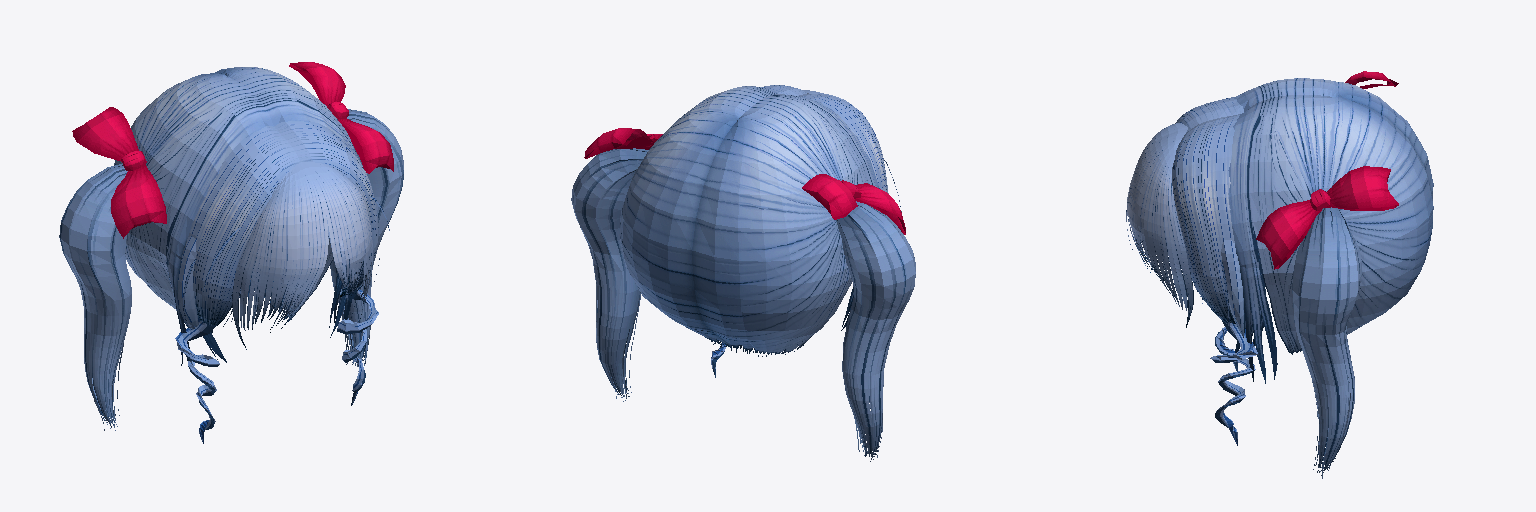
3 renders of one model, left to right at view 1: azimuth 30°, elevation 25°; view 2: azimuth 150°, elevation 25°; view 3: azimuth 270°, elevation 25°, orthographic.
Visible parts, largest first — view 1: objMesh_kami_back_06_Layer1, objMesh_kami_side_06_Layer1, objMesh_kami_front_06_Layer1; view 2: objMesh_kami_back_06_Layer1, objMesh_kami_side_06_Layer1; view 3: objMesh_kami_back_06_Layer1, objMesh_kami_side_06_Layer1, objMesh_kami_front_06_Layer1.
Boxes of the visible parts, box(x1,y1,x2,y2) form: objMesh_kami_back_06_Layer1: box(59, 62, 403, 430); objMesh_kami_side_06_Layer1: box(175, 121, 389, 443); objMesh_kami_front_06_Layer1: box(232, 162, 372, 349); objMesh_kami_back_06_Layer1: box(571, 86, 915, 461); objMesh_kami_side_06_Layer1: box(711, 85, 901, 377); objMesh_kami_back_06_Layer1: box(1228, 71, 1433, 478); objMesh_kami_side_06_Layer1: box(1172, 97, 1258, 445); objMesh_kami_front_06_Layer1: box(1126, 123, 1193, 327).
Size of the model in its own units: 2.99 by 2.77 by 2.37.
Materials: 3 (3 with a texture image).